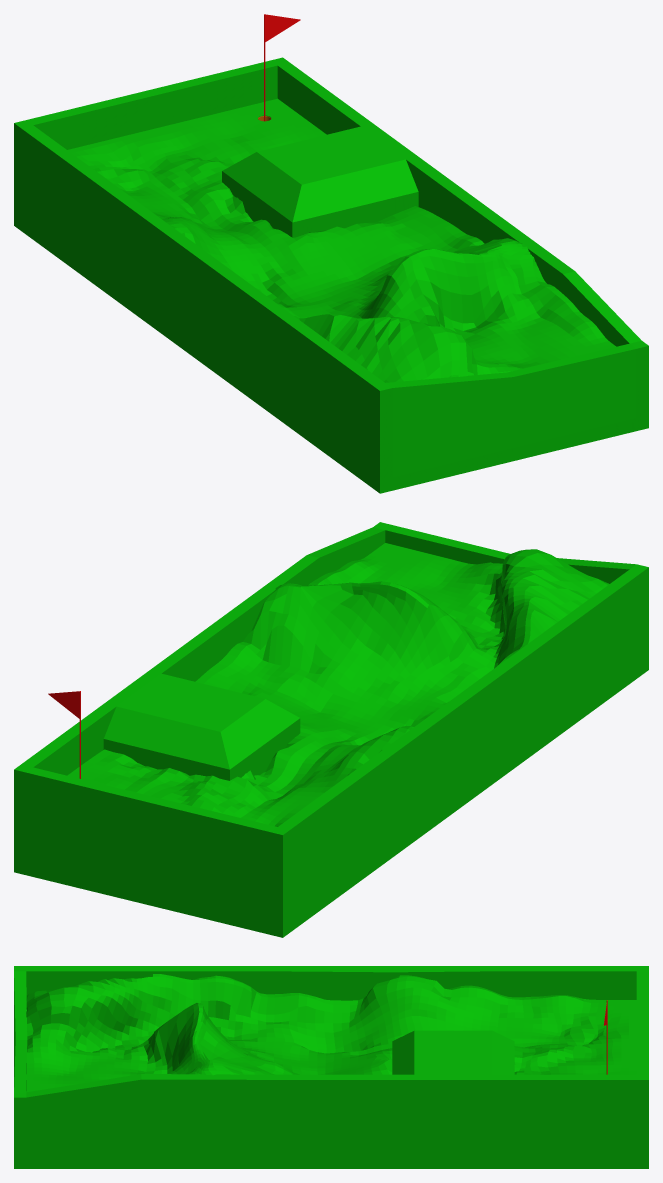
File: level_8.glb
3 renders of one model, top to bottom at view 1: azimuth 30°, elevation 25°; view 2: azimuth 150°, elevation 25°; view 3: azimuth 270°, elevation 25°, orthographic. The views are drawn at different scales.
Visible parts, largest first — view 1: green, flag; view 2: green, flag; view 3: green.
Boxes of the visible parts, x1=… form: green: x1=14, y1=57, x2=648, y2=493; flag: x1=264, y1=14, x2=300, y2=121; green: x1=14, y1=522, x2=648, y2=937; flag: x1=48, y1=691, x2=80, y2=778; green: x1=14, y1=966, x2=648, y2=1168.
Size of the model in its own units: 2.2 by 1.36 by 5.19.
